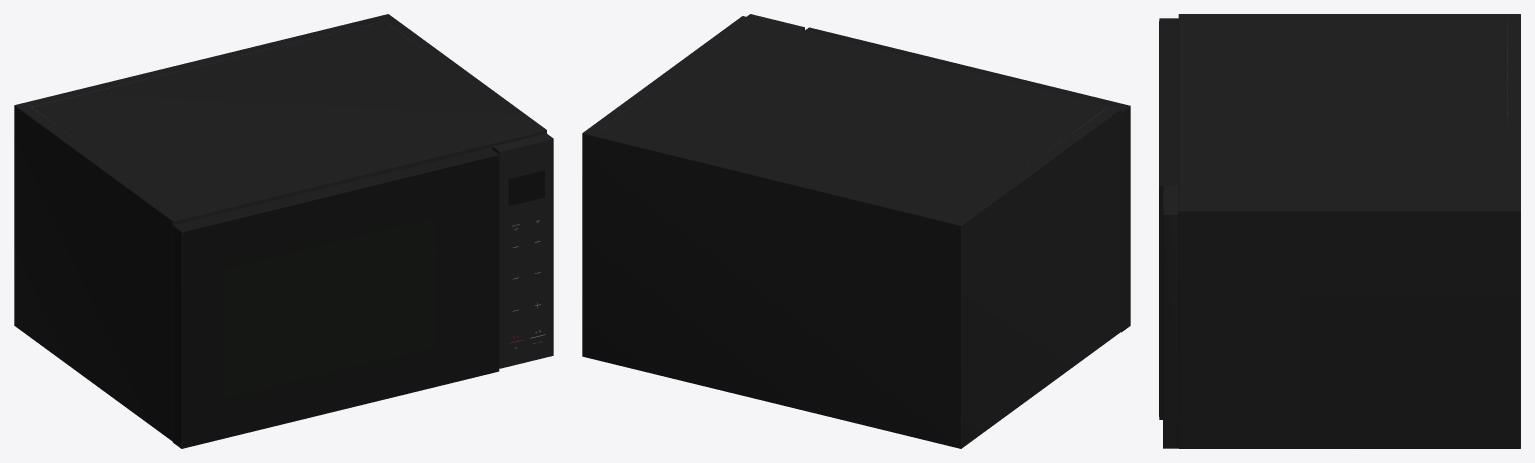
File: MW23-mirror-1ef5c2.glb
The picture shows the model from 3 angles, left to right: view 1: azimuth 30°, elevation 25°; view 2: azimuth 150°, elevation 25°; view 3: azimuth 270°, elevation 25°; orthographic projection. The views are drawn at different scales.
Visible parts, largest first — view 1: BodyShell, FullDoorGlass, SubtleWindow, ControlPanel, DoorBody, ControlDisplay; view 2: BodyShell, DoorBody; view 3: BodyShell, DoorBody, ControlPanel, FullDoorGlass.
Boxes of the visible parts, left/top/right/bottom form: BodyShell: left=14, top=14, right=546, bottom=441; FullDoorGlass: left=182, top=156, right=498, bottom=447; SubtleWindow: left=224, top=217, right=436, bottom=398; ControlPanel: left=492, top=133, right=553, bottom=368; DoorBody: left=172, top=148, right=499, bottom=448; ControlDisplay: left=508, top=170, right=544, bottom=206; BodyShell: left=582, top=16, right=1121, bottom=448; DoorBody: left=804, top=27, right=1130, bottom=332; BodyShell: left=1178, top=14, right=1520, bottom=448; DoorBody: left=1159, top=18, right=1178, bottom=419; ControlPanel: left=1163, top=186, right=1178, bottom=448; FullDoorGlass: left=1159, top=21, right=1159, bottom=416.
Bounding box in the file's own units: 0.476 × 0.272 × 0.369.
Materials: 10 (1 with a texture image).
